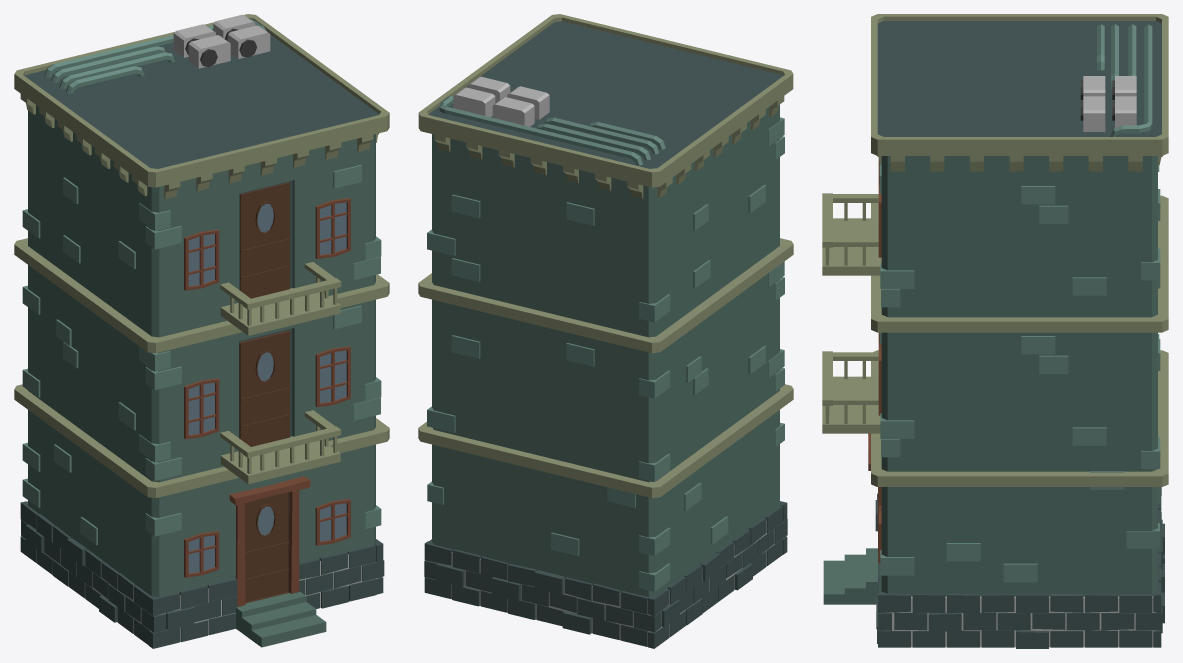
File: 3Story_Balcony_Mat.glb
3 renders of one model, left to right at view 1: azimuth 30°, elevation 25°; view 2: azimuth 150°, elevation 25°; view 3: azimuth 270°, elevation 25°, orthographic. The views are drawn at different scales.
Visible parts, largest first — view 1: 3Story_Balcony_Mat; view 2: 3Story_Balcony_Mat; view 3: 3Story_Balcony_Mat.
Boxes of the visible parts, x1,y1,x2,y2 form: 3Story_Balcony_Mat: [14, 14, 389, 648]; 3Story_Balcony_Mat: [418, 14, 793, 648]; 3Story_Balcony_Mat: [822, 14, 1168, 648].
Bounding box in the file's own units: 2.16 × 4.21 × 2.51.
